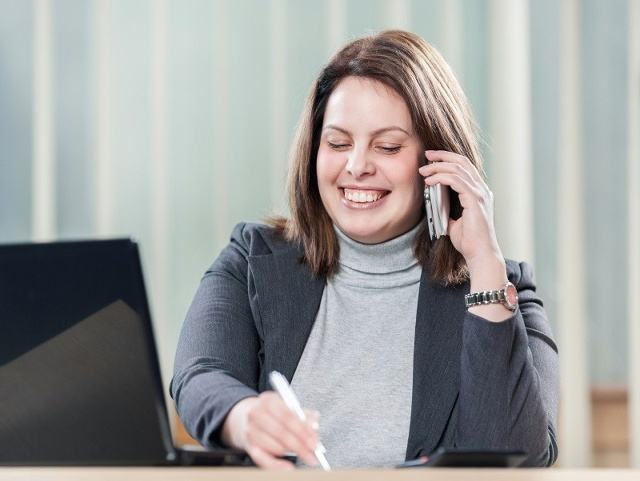calling: (416, 144, 501, 256)
